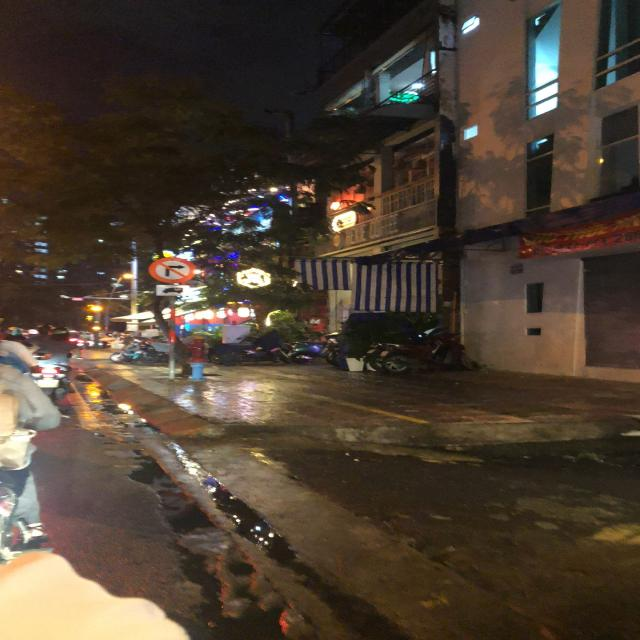Bien bao cam re phai: (145, 253, 198, 284)
